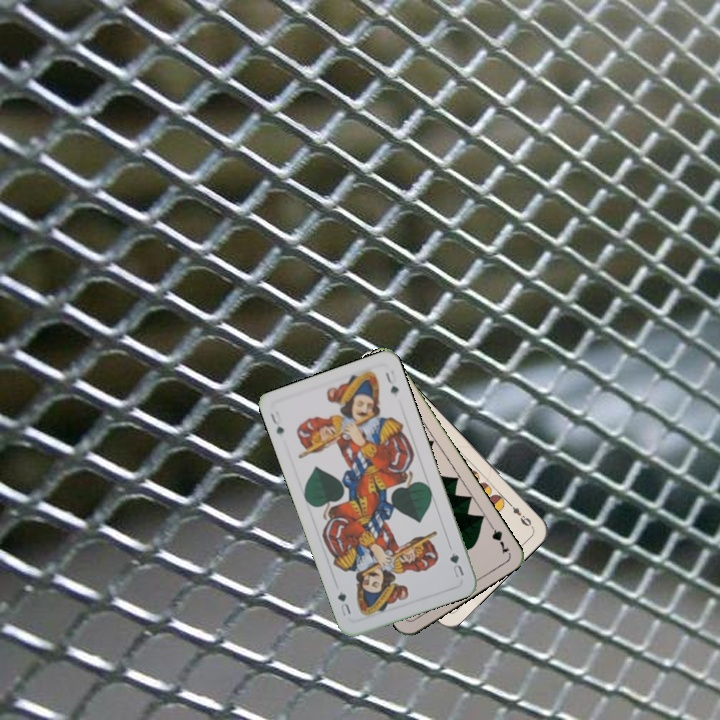E9: (503, 498, 534, 529)
G7: (485, 519, 512, 556)
GU: (446, 548, 467, 580), (266, 407, 287, 437)
